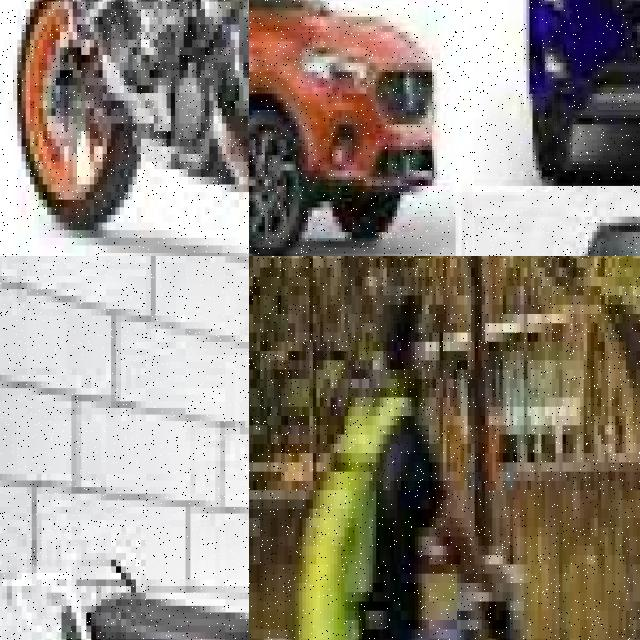bike: (2, 329, 249, 640), (13, 0, 249, 256)
car: (249, 0, 441, 256), (514, 0, 640, 186), (452, 140, 640, 256)
